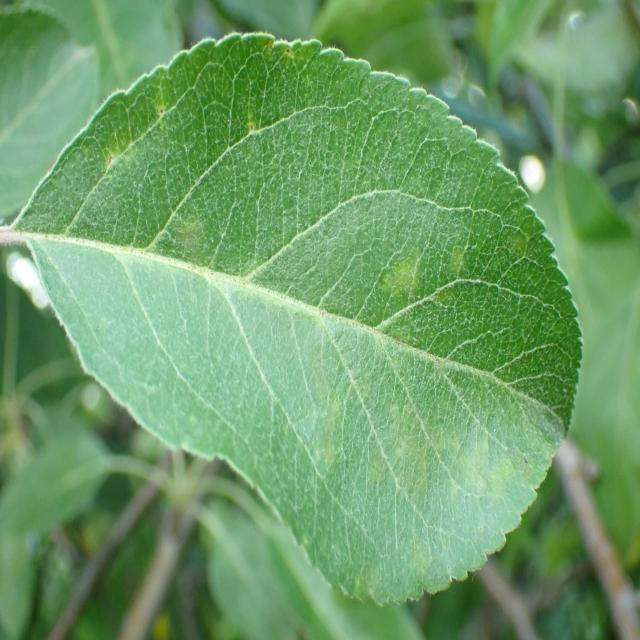scab: (91, 70, 554, 591)
